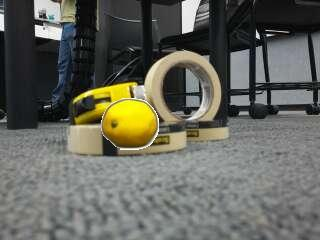lemon: (104, 101, 157, 148)
